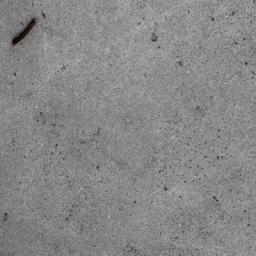FOD: (13, 17, 40, 50)
